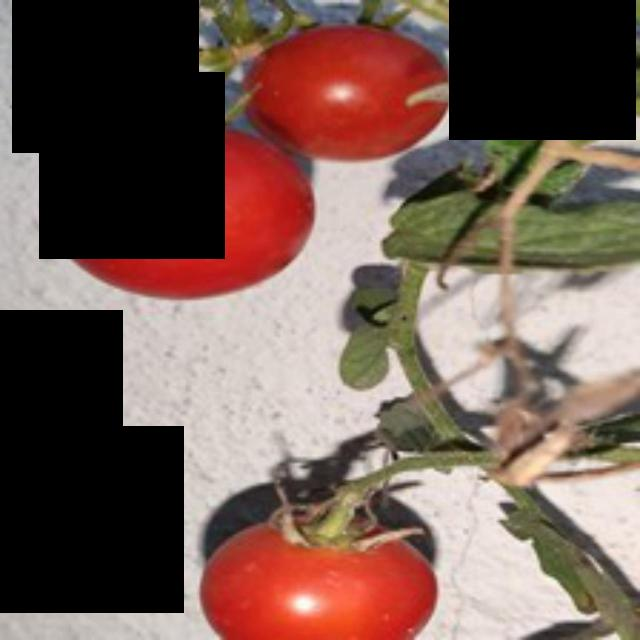tomato: (54, 112, 315, 304), (194, 506, 440, 636), (250, 16, 454, 160)
